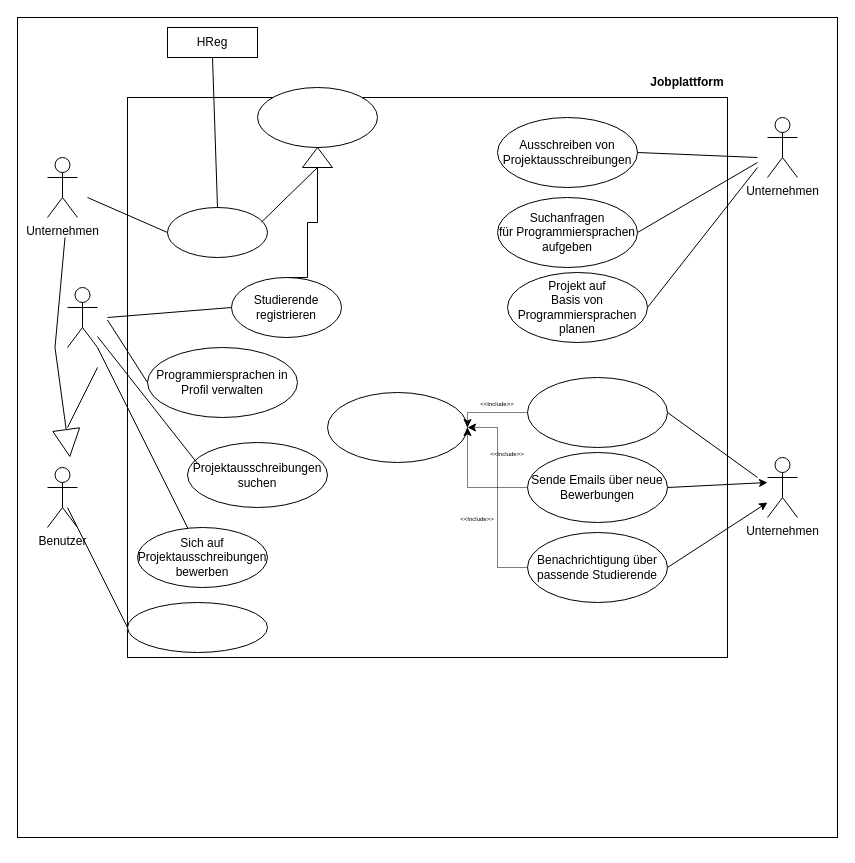
Some shapes in this 855 by 863 pixel diagram are drawn without their labels. Here are the shapes that lost their labels. From the top down, the centre of each, then its label:
At (x=317, y=117): "Benutzer registrieren".
At (x=217, y=232): "Unternehmer Registrieren".
At (x=82, y=317): "Studierende:r".
At (x=397, y=427): "Studentische Stammdaten abfragen".
At (x=597, y=412): "Verwalte Bewerbungen von Studierenden".
At (x=197, y=627): "Login eines registrierten Benutzers".
